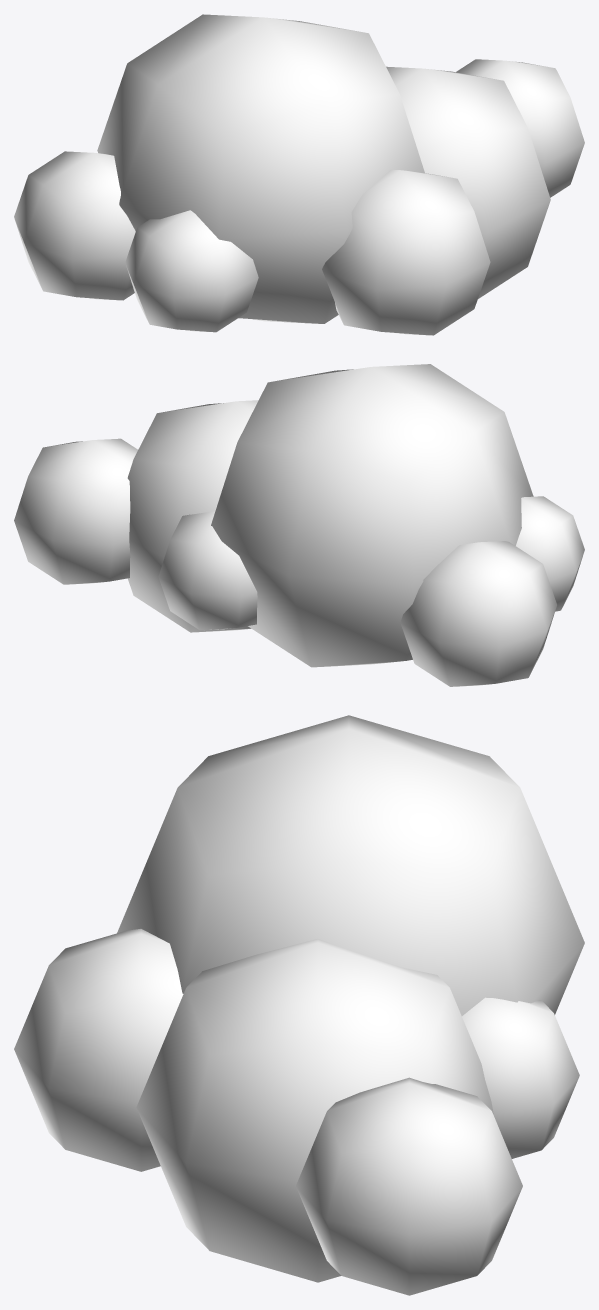
The model's file is nuage_2.glb.
3 views of the same model, one above another, from view 1: azimuth 30°, elevation 25°; view 2: azimuth 150°, elevation 25°; view 3: azimuth 270°, elevation 25° (orthographic). The views are drawn at different scales.
Parts seen in each view (by area): view 1: NUAGE.2, NUAGE.019, NUAGE.016, NUAGE.013, NUAGE.017, NUAGE.015; view 2: NUAGE.2, NUAGE.013, NUAGE.015, NUAGE.016, NUAGE.018, NUAGE.017; view 3: NUAGE.2, NUAGE.016, NUAGE.015, NUAGE.019, NUAGE.018.
Part boxes in pixels (<box>): NUAGE.2: <box>97,14,424,323</box>; NUAGE.019: <box>322,169,490,335</box>; NUAGE.016: <box>386,66,550,298</box>; NUAGE.013: <box>14,151,135,300</box>; NUAGE.017: <box>125,210,258,332</box>; NUAGE.015: <box>456,59,584,197</box>; NUAGE.2: <box>211,364,533,667</box>; NUAGE.013: <box>400,541,556,686</box>; NUAGE.015: <box>14,438,137,584</box>; NUAGE.016: <box>127,400,258,632</box>; NUAGE.018: <box>158,511,257,630</box>; NUAGE.017: <box>516,496,584,611</box>; NUAGE.2: <box>117,715,584,1015</box>; NUAGE.016: <box>136,939,493,1282</box>; NUAGE.015: <box>296,1077,522,1295</box>; NUAGE.019: <box>14,929,183,1171</box>; NUAGE.018: <box>462,997,579,1158</box>.
Size of the model in its own units: 5.2 by 2.87 by 3.36.
Materials: 1 (1 with a texture image).
